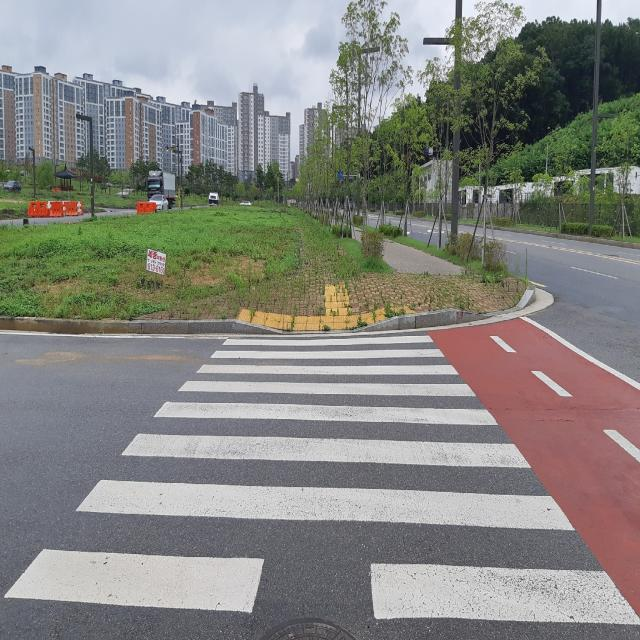횡단보도: (3, 334, 640, 639)
